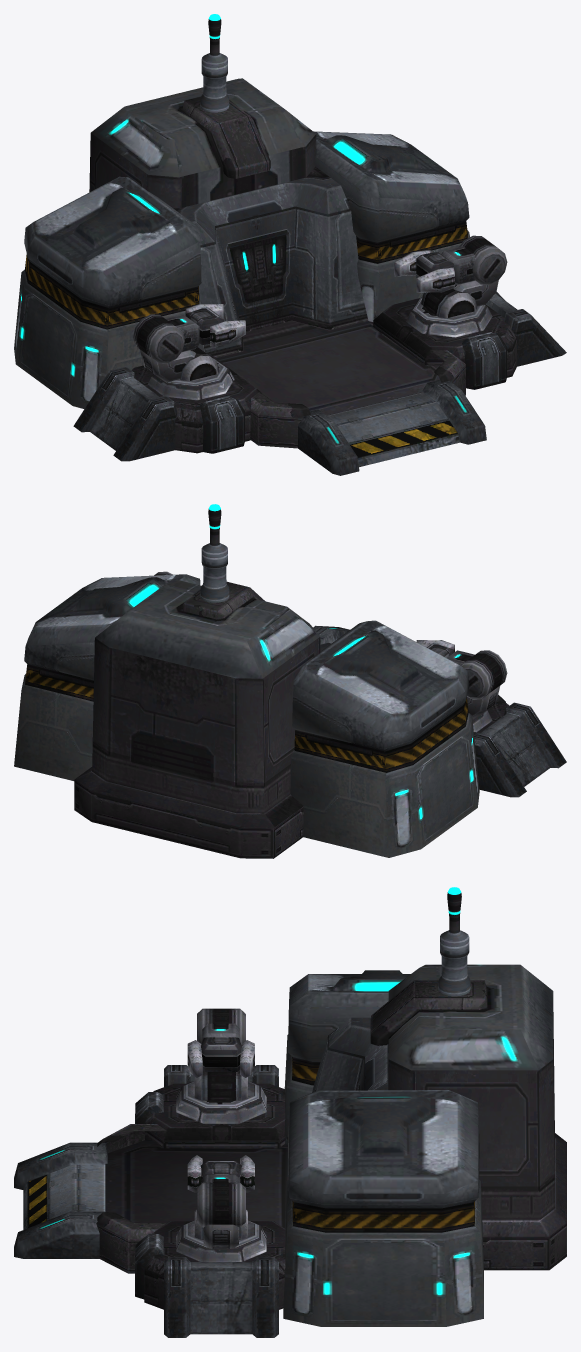
Rendered from Manufacturer.glb.
3 renders of one model, top to bottom at view 1: azimuth 30°, elevation 25°; view 2: azimuth 150°, elevation 25°; view 3: azimuth 270°, elevation 25°, orthographic. The views are drawn at different scales.
Parts seen in each view (by area): view 1: Mesh; view 2: Mesh; view 3: Mesh.
Boxes of the visible parts, x1,y1,x2,y2 form: Mesh: (14, 14, 566, 475); Mesh: (14, 504, 566, 858); Mesh: (14, 887, 566, 1337).
Bounding box in the file's own units: 3.32 × 2.11 × 3.23.
Materials: 4 (4 with a texture image).
